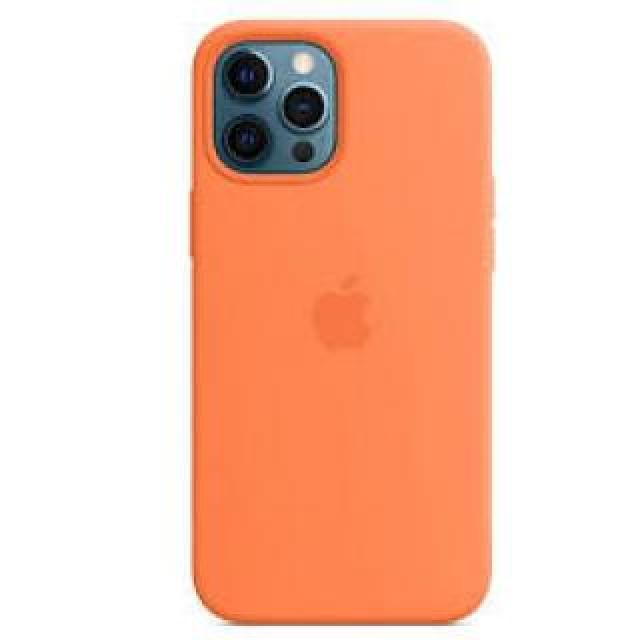smart phone: (175, 0, 525, 607)
